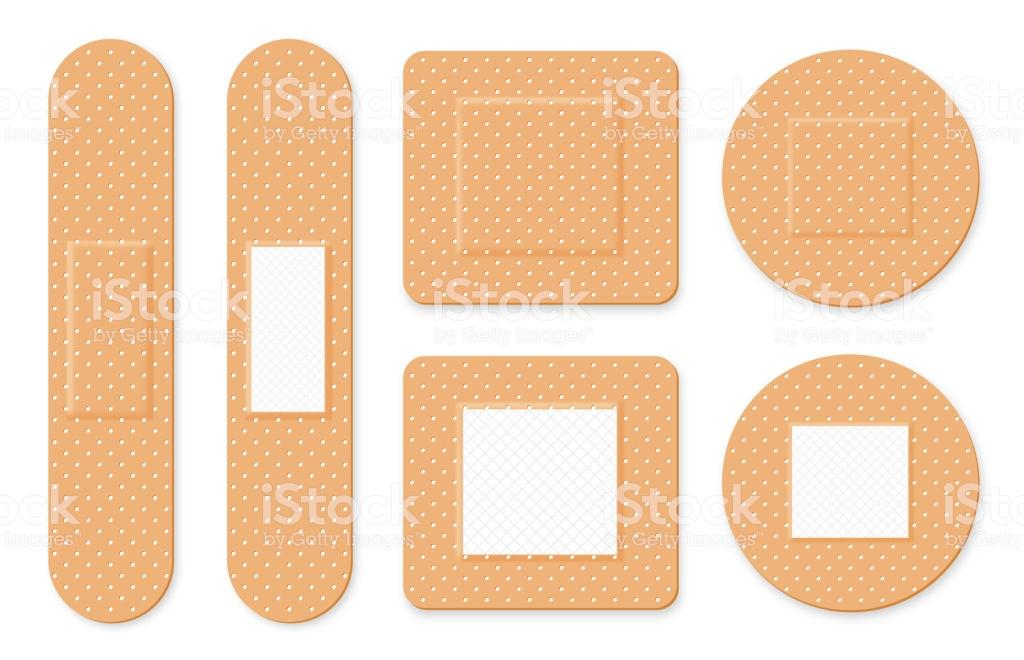bandage: (48, 38, 177, 626), (228, 39, 354, 624), (404, 50, 680, 305), (405, 355, 679, 610), (721, 354, 982, 613), (723, 49, 979, 307)
